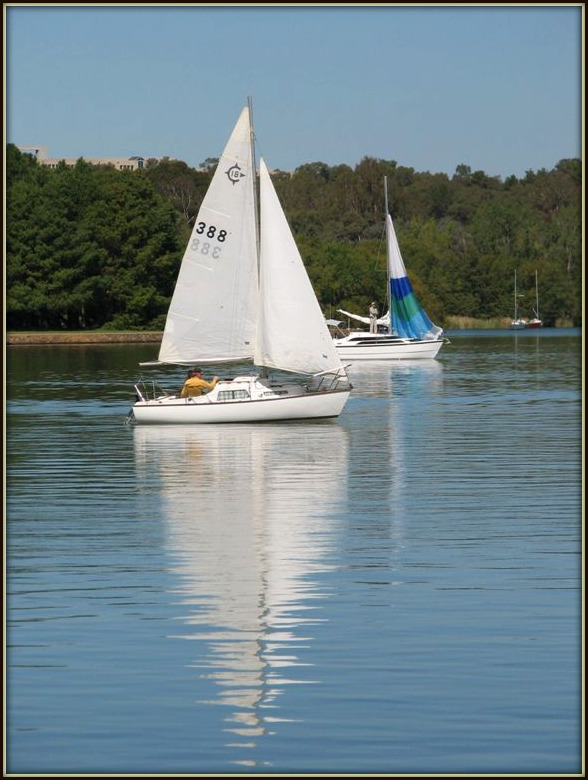boat: (127, 96, 360, 417), (327, 181, 454, 367)
